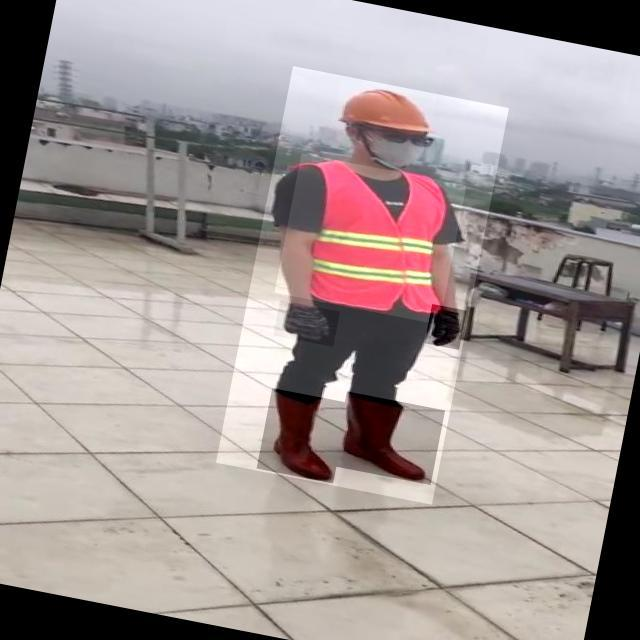Gloves: (273, 301, 340, 348), (425, 304, 467, 350)
Helmet: (332, 79, 437, 143)
Human: (216, 66, 509, 505)
Safety Boot: (333, 392, 446, 486), (257, 389, 349, 484)
Safety Vest: (275, 154, 467, 325)
